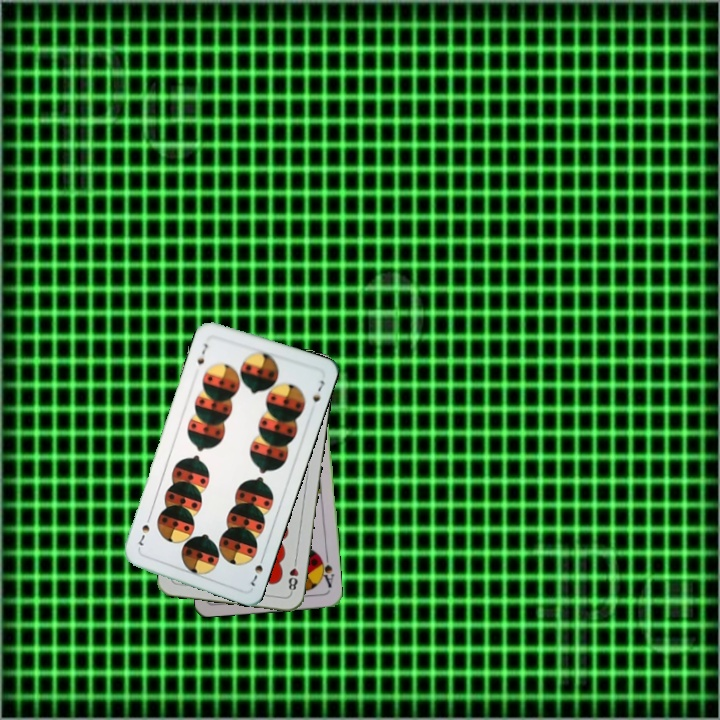H8: (284, 555, 301, 596)
S7: (246, 551, 267, 589), (193, 339, 210, 367)
SA: (316, 552, 337, 590)
